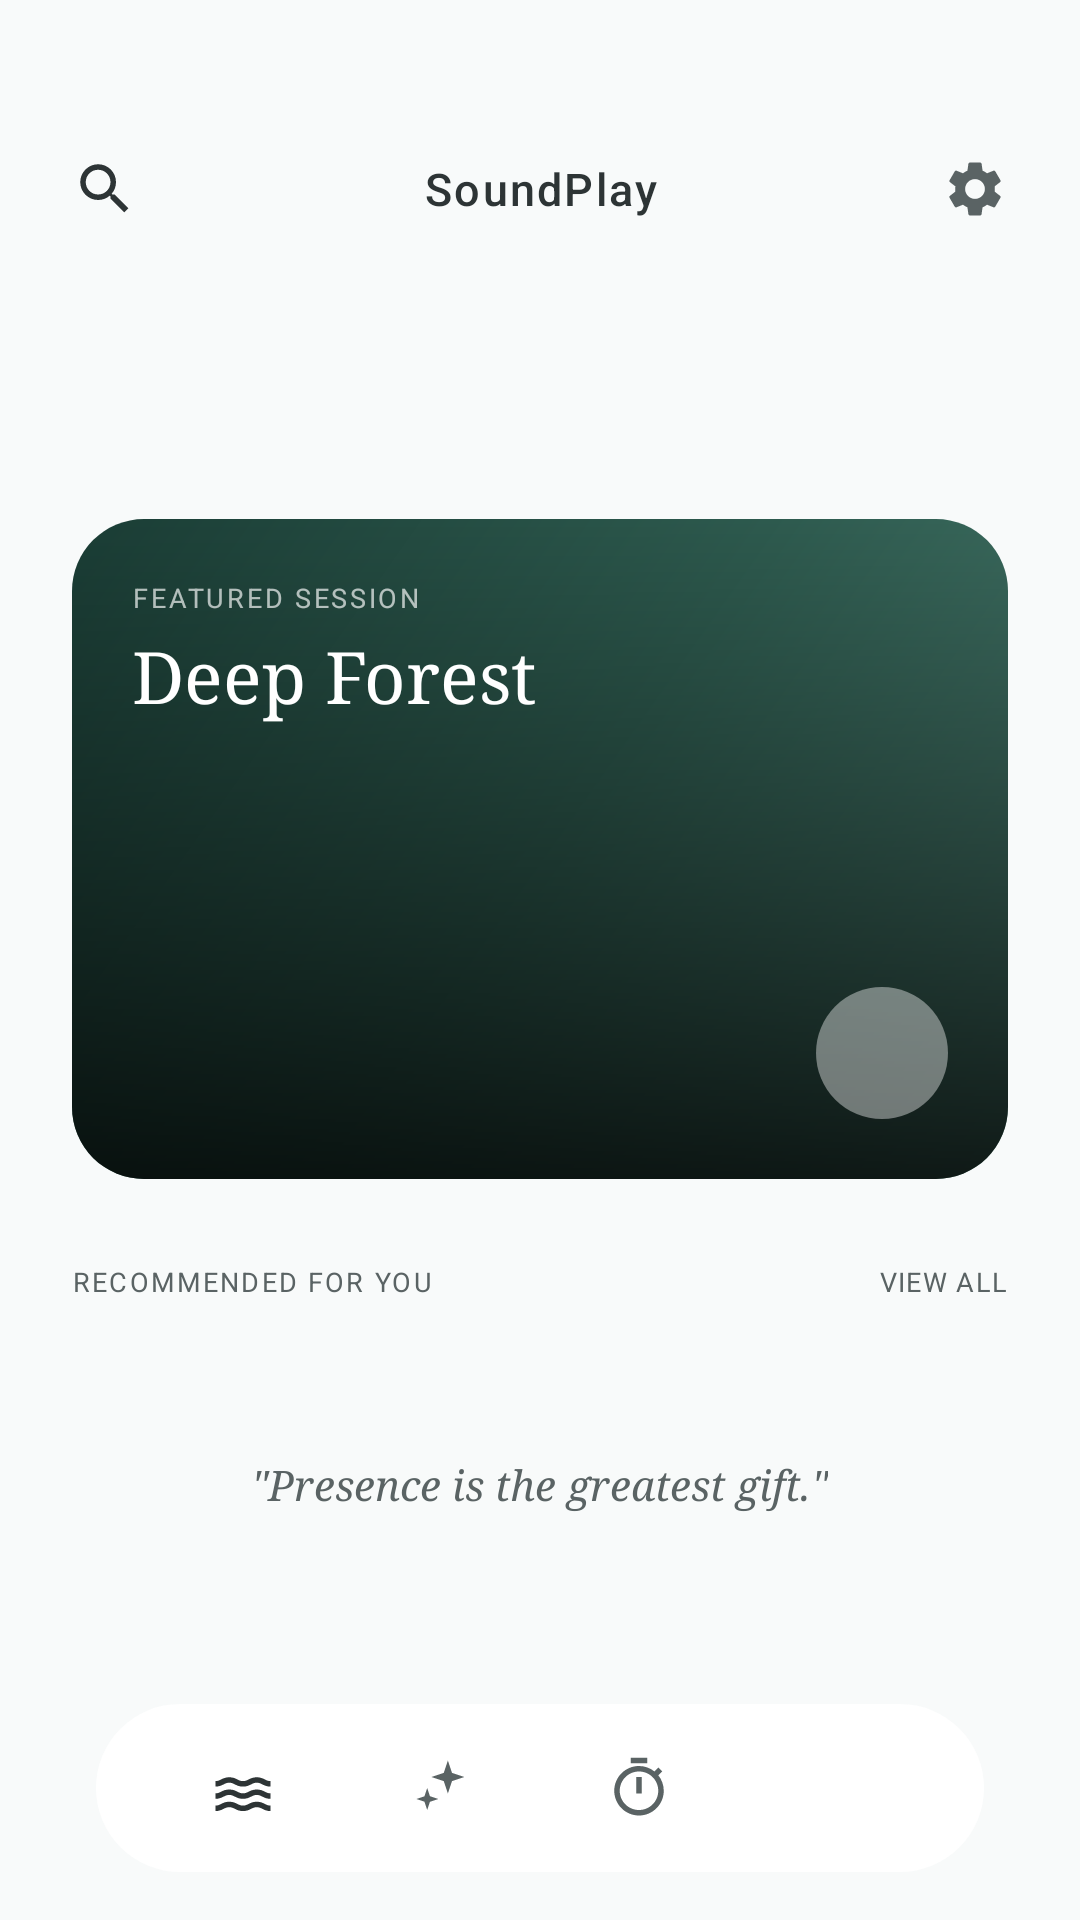

Icon click points for this 1080*1920 phone screenshot, format (x=x, y=y):
Search: (x=104, y=188)
Settings: (x=975, y=189)
Timer: (x=639, y=1786)
